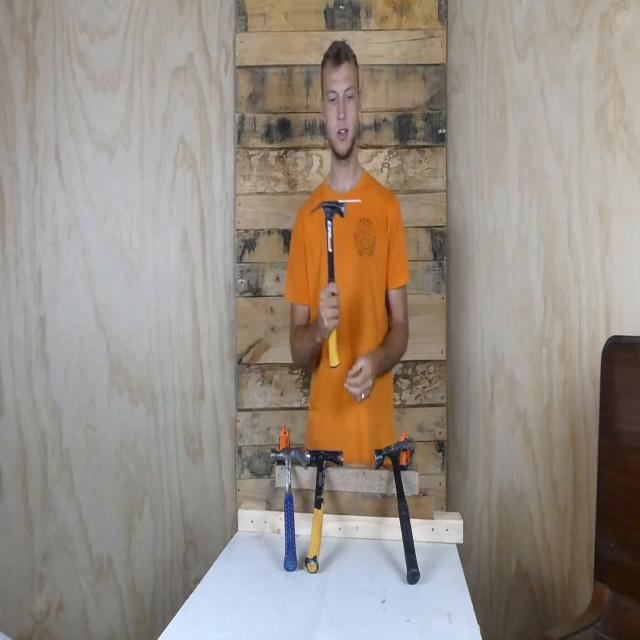hammer: (304, 196, 350, 370), (372, 433, 423, 587), (304, 442, 346, 579), (268, 441, 306, 573)
